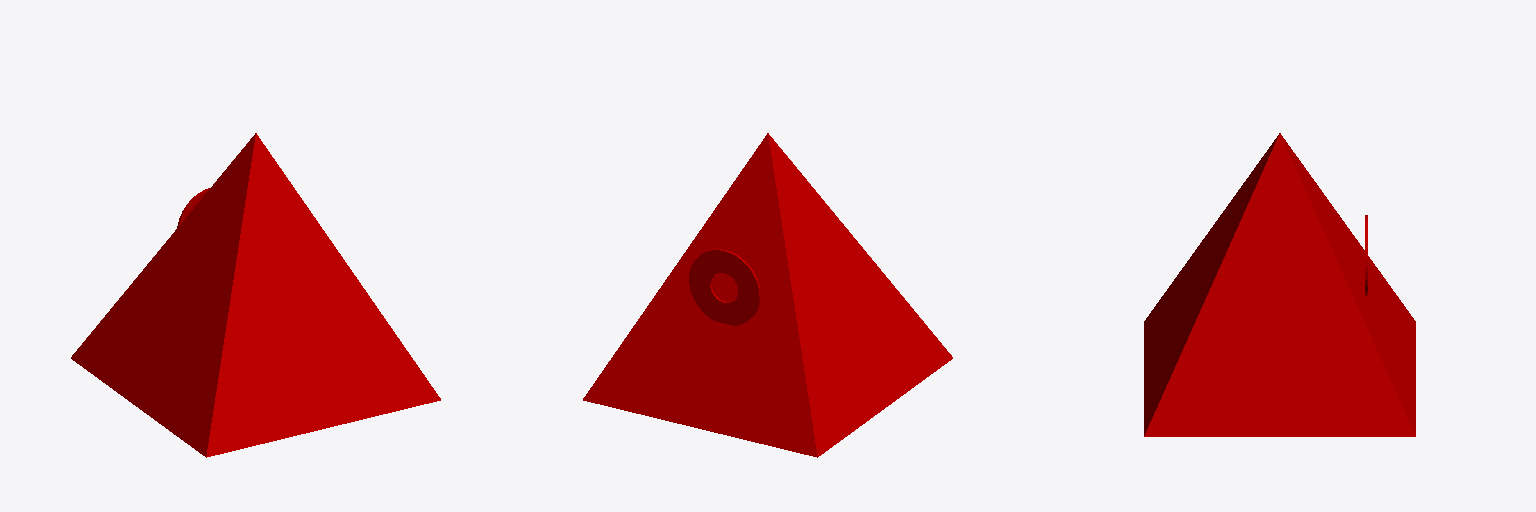
File: Enemy.obj
3 renders of one model, left to right at view 1: azimuth 30°, elevation 25°; view 2: azimuth 150°, elevation 25°; view 3: azimuth 270°, elevation 25°, orthographic.
Parts seen in each view (by area): view 1: Cube; view 2: Cube; view 3: Cube.
Part boxes in pixels (bbox=[...]): Cube: bbox=[71, 133, 440, 457]; Cube: bbox=[583, 133, 952, 457]; Cube: bbox=[1144, 133, 1415, 436].
Bounding box in the file's own units: 2 × 2 × 2.